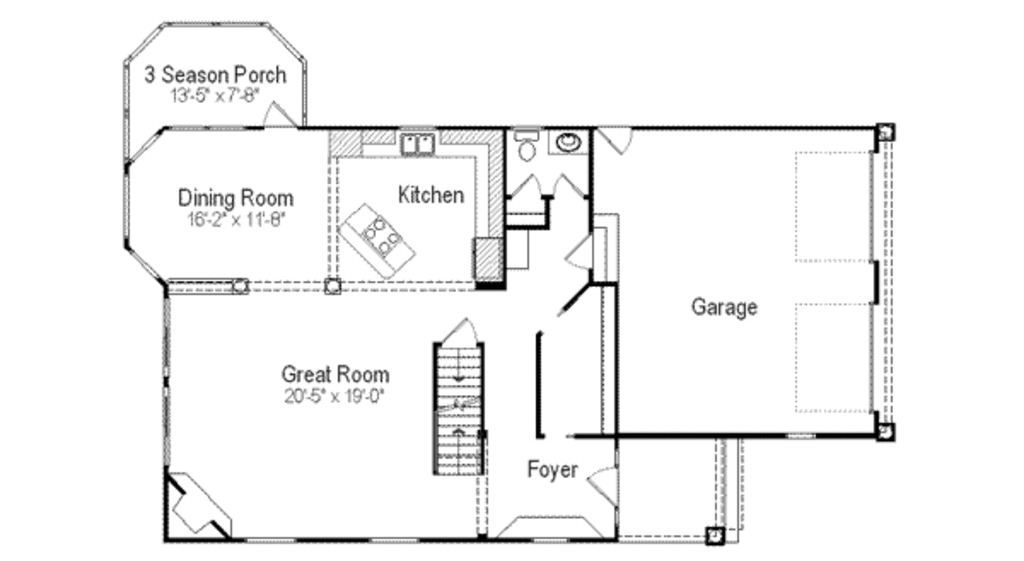door: (432, 304, 484, 346), (248, 91, 303, 130), (558, 225, 598, 278), (595, 120, 644, 158), (583, 465, 626, 506), (552, 174, 590, 204), (512, 172, 541, 201)
kitchen_bar: (338, 199, 415, 280)
large_sink: (512, 130, 541, 168)
small_sink: (543, 126, 585, 162)
stairs: (434, 347, 487, 476)
twin_sink: (389, 119, 440, 159)
window: (364, 534, 421, 549), (248, 534, 298, 544), (531, 535, 571, 545)
